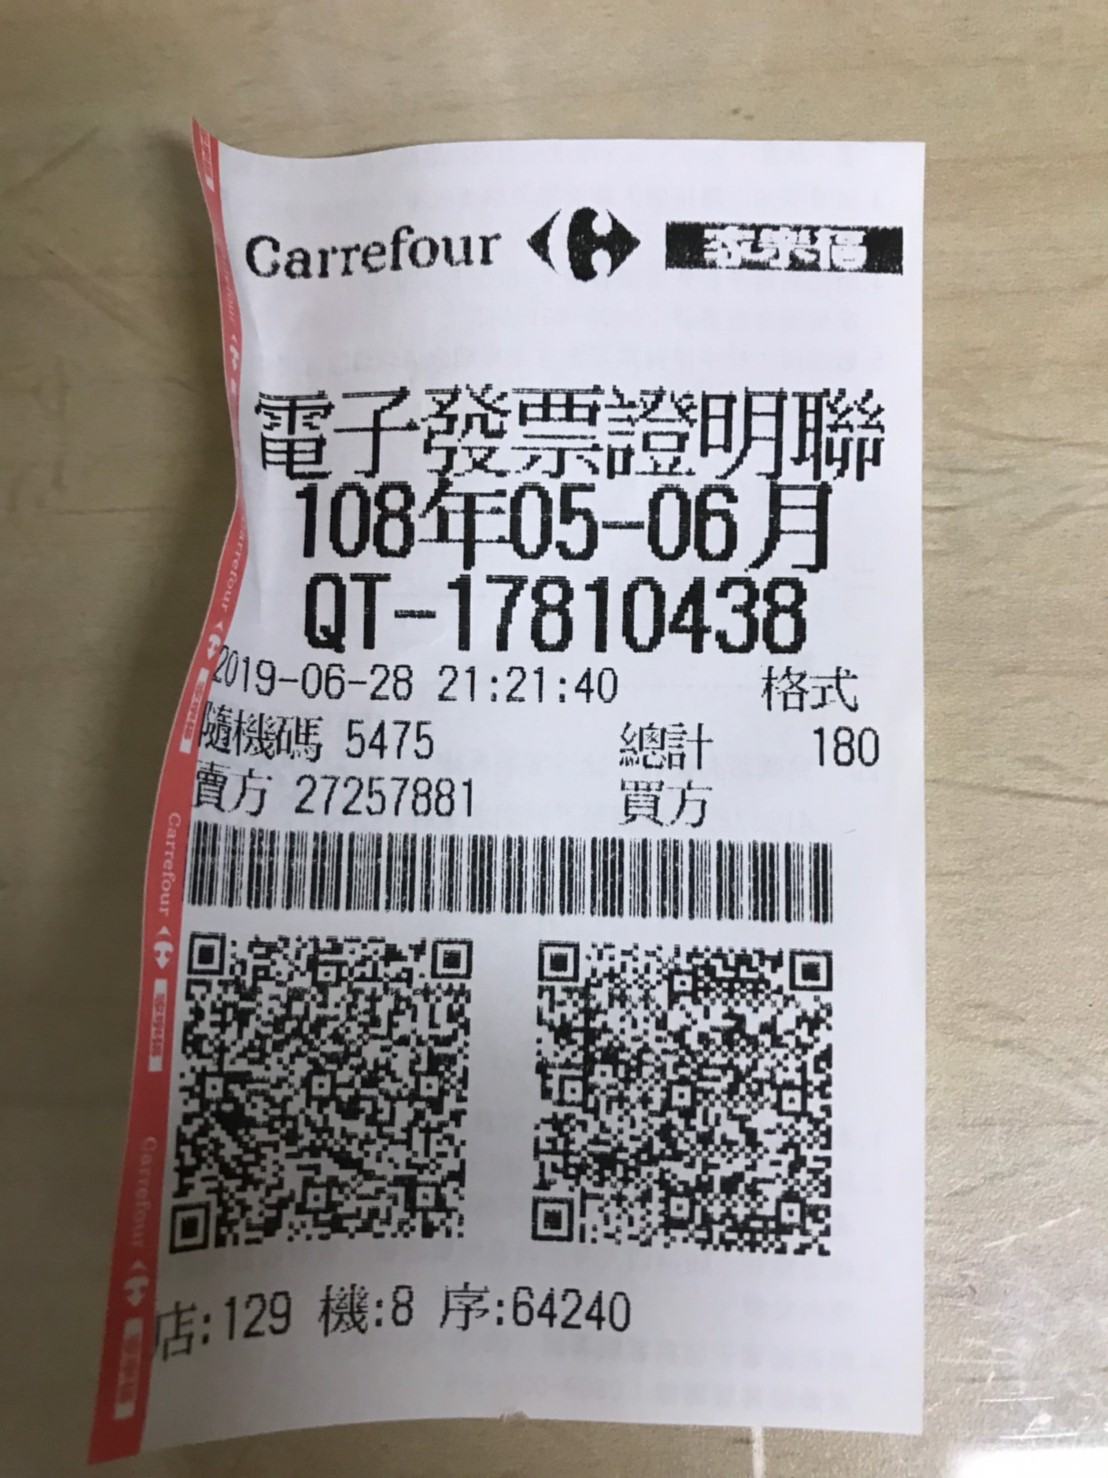Date_New: (294, 479, 834, 580)
Number_New: (445, 568, 807, 655)
